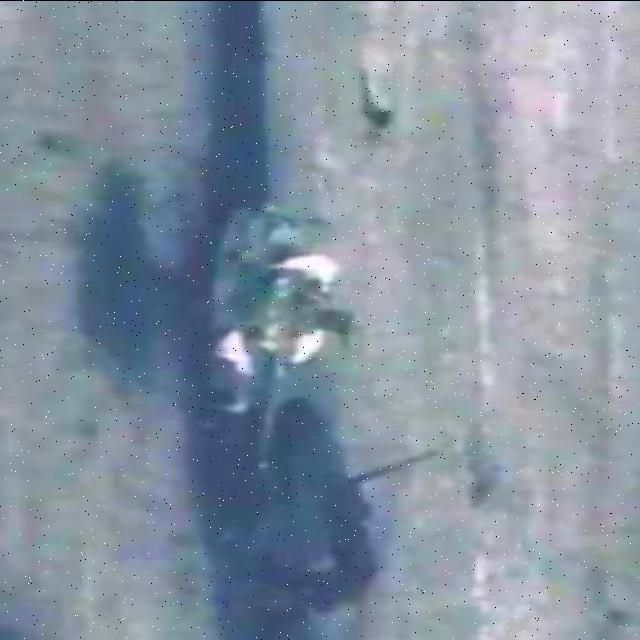TANK: (171, 205, 367, 470)
